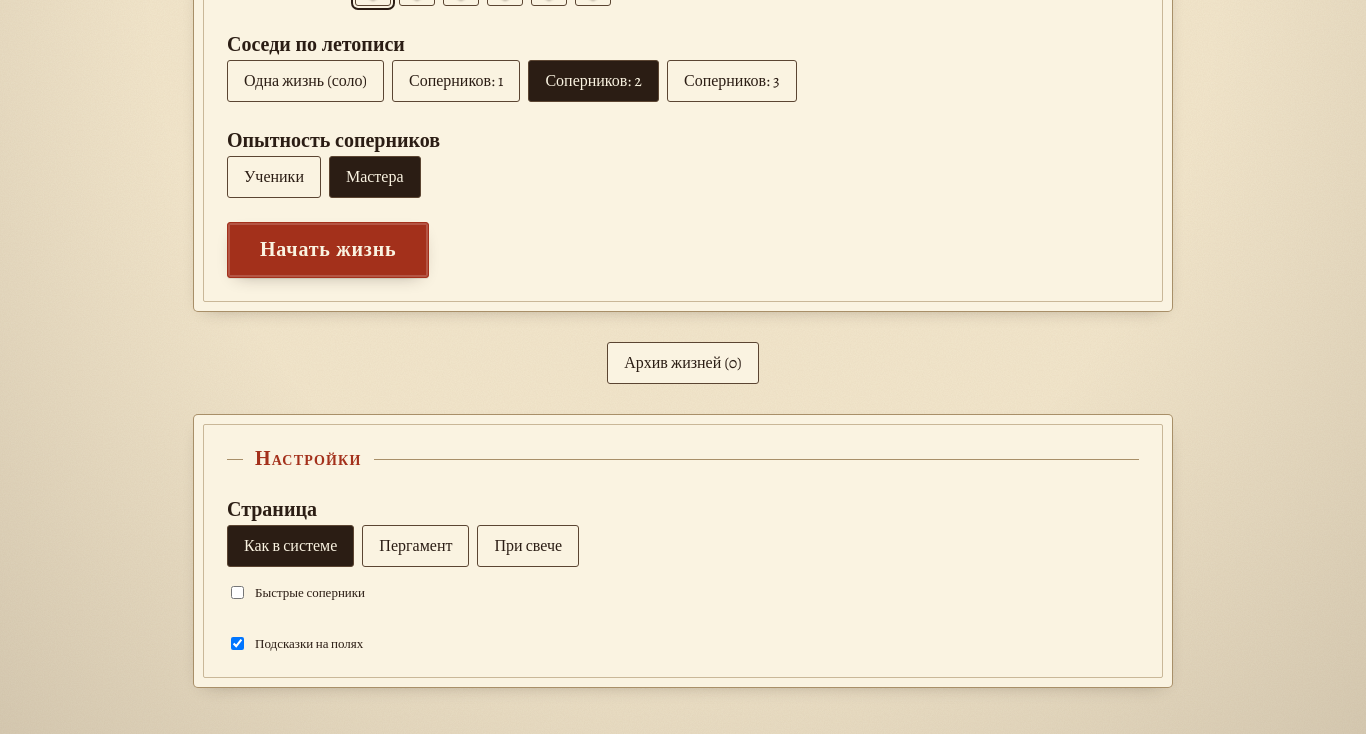
Test: App › opens the archive of lives from the title page
(page scrolled)
What coordinates should you click on to do the following:
click the button "Архив жизней (0)"
I would click on:
 (683, 363)
Its box is [607,342,759,384].
(page scrolled)
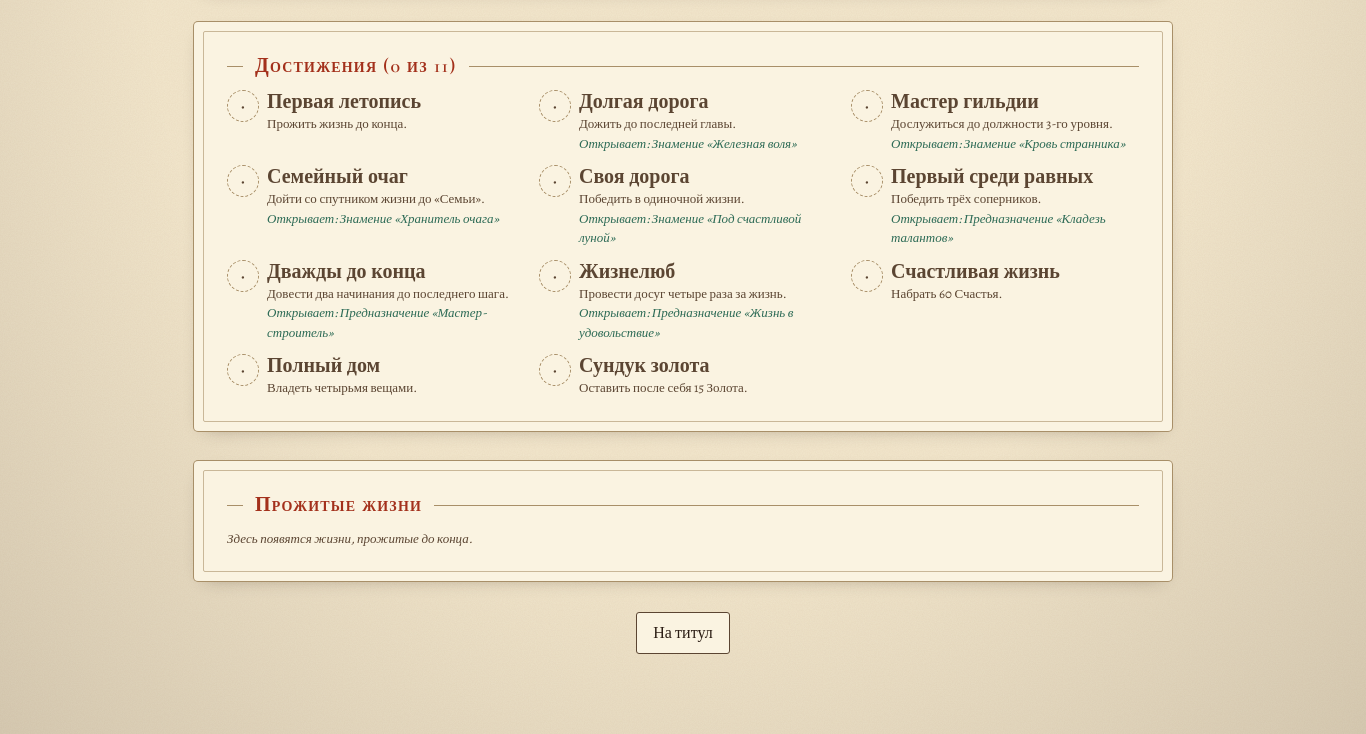
Expected: the text "Здесь появятся жизни, прожитые до конца." is shown, [227,530,473,547]
